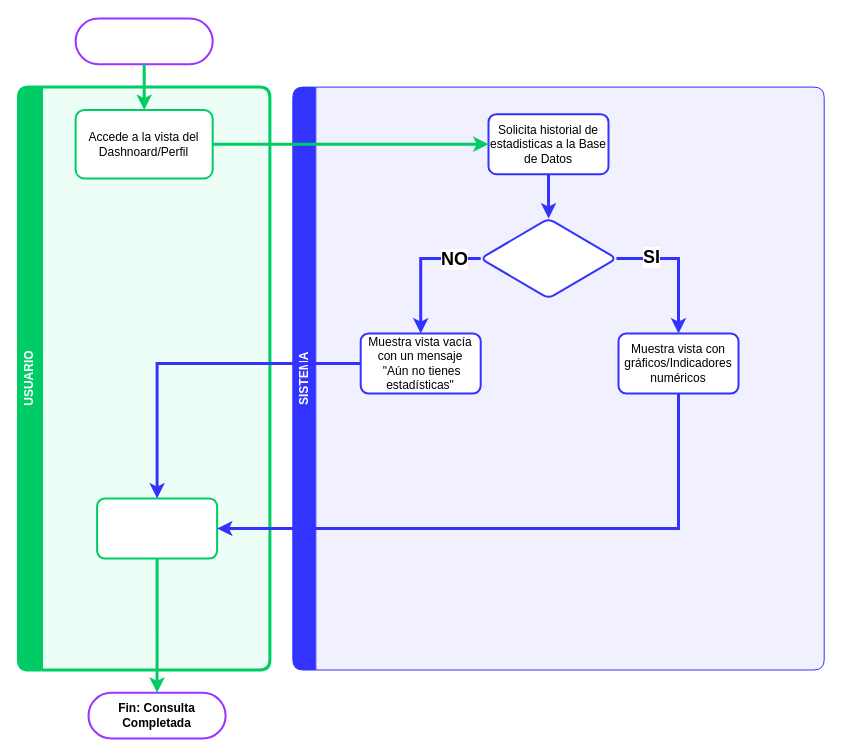
The diagram is 842 pixels wide and 756 high, and some of its shapes have lost their labels. Here are the shapes that lost their labels. From the top down, the centre of each, then its label:
At (x=143, y=41): "Inicio".
At (x=548, y=258): "¿El usuario tiene actividad Previa?".
At (x=157, y=528): "Visualiza el estado actual de su Perfil".
